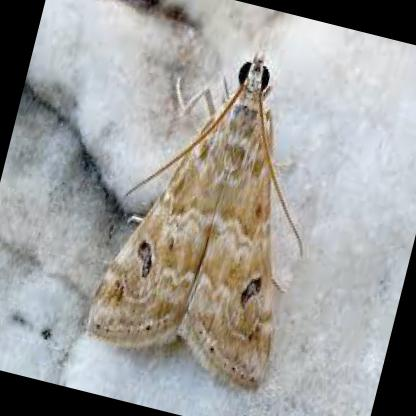Hellula undalis: (84, 45, 305, 405)
